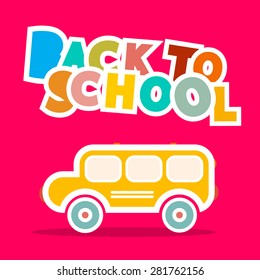car: (39, 143, 218, 235)
